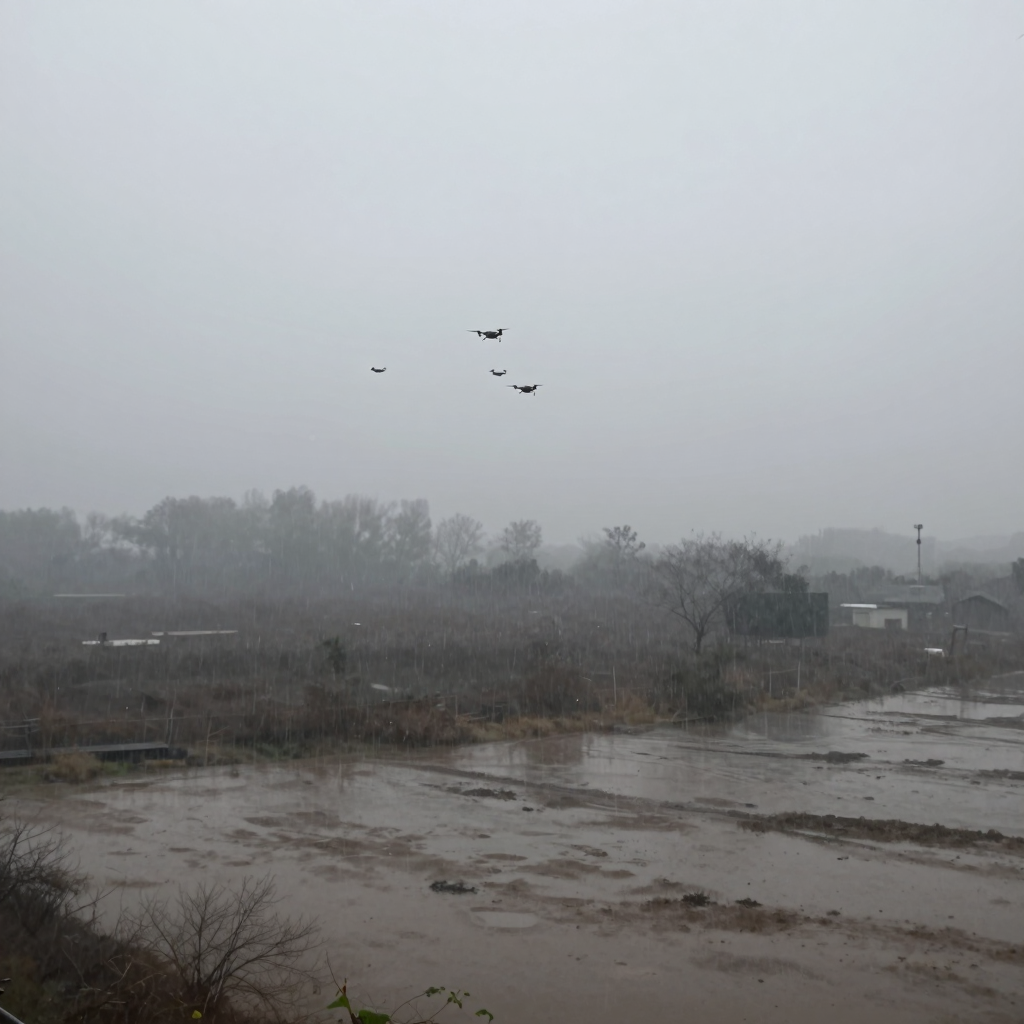drone: (466, 328, 510, 342), (512, 384, 543, 395), (489, 369, 507, 377), (371, 367, 387, 373)
